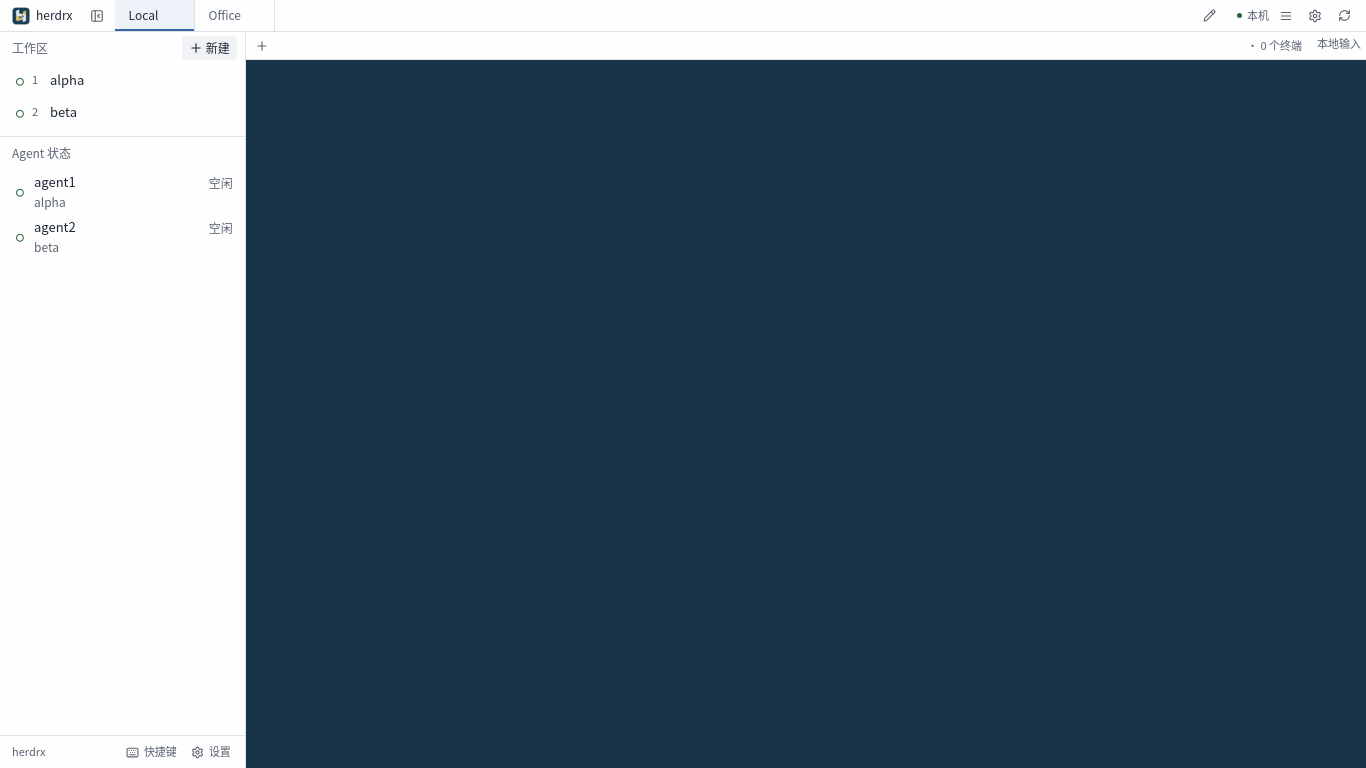
it: workbench composer › shows the iOS home-screen notice on the notification button
Step 1. Click the button named "工作台设置" → {"x": 1315, "y": 16}, box [1303,4,1327,28]
(page scrolled)
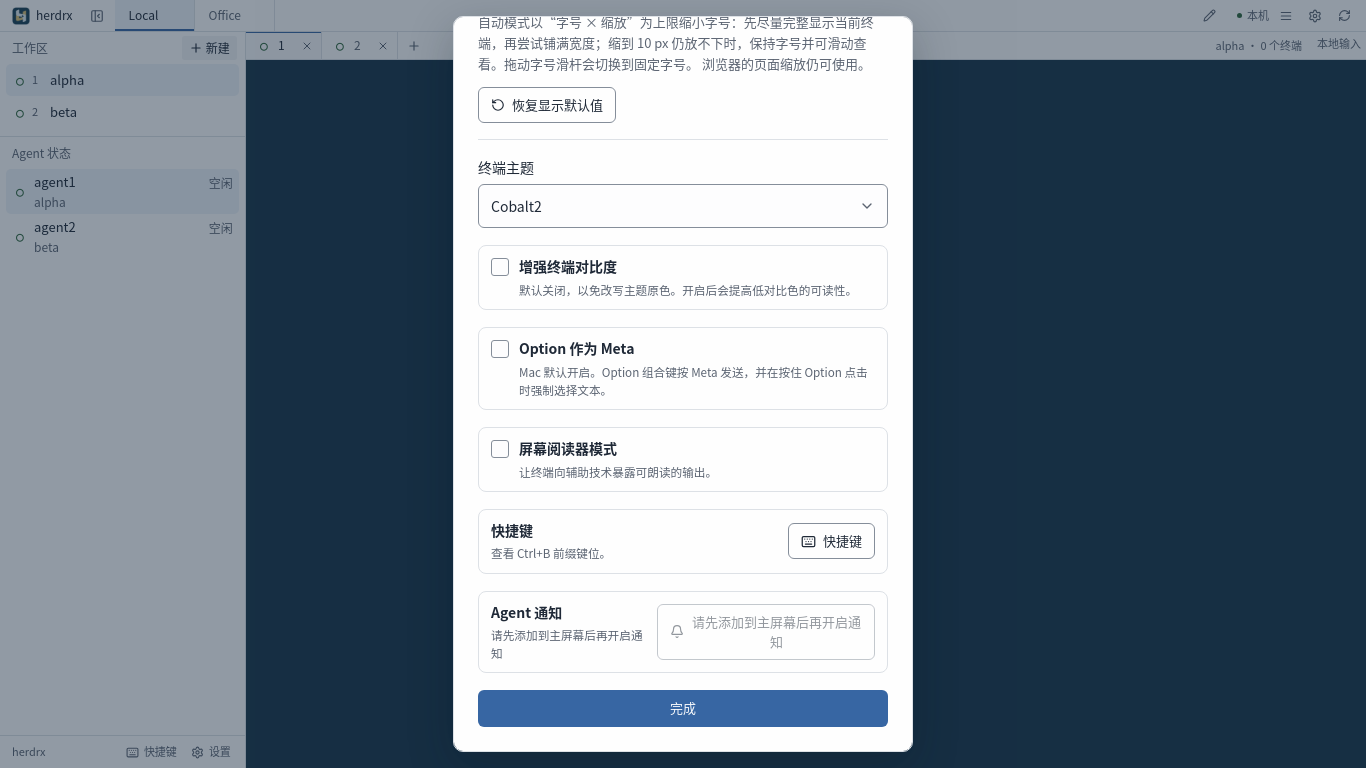
Expected: the button "请先添加到主屏幕后再开启通知" is disabled, [657,604,875,660]
